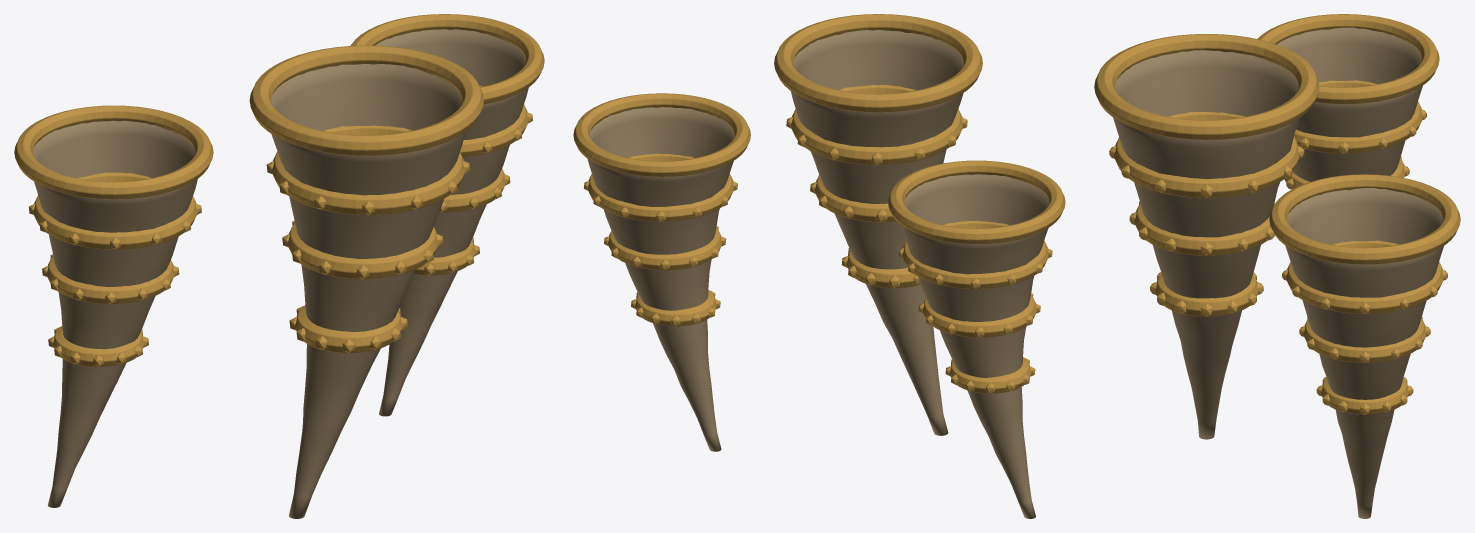
3 renders of one model, left to right at view 1: azimuth 30°, elevation 25°; view 2: azimuth 150°, elevation 25°; view 3: azimuth 270°, elevation 25°, orthographic. The views are drawn at different scales.
Parts seen in each view (by area): view 1: TI040 / curving hollow horn shell.001, TI040 / curving hollow horn shell, TI040 / curving hollow horn shell.002, TI040 / decorative mouth rim.001, TI040 / decorative mouth rim, TI040 / decorative mouth rim.002, TI040 / gold ornamental band.005, TI040 / gold ornamental band.002, TI040 / gold ornamental band.004, TI040 / gold ornamental band.001, TI040 / gold ornamental band.003, TI040 / gold ornamental band (+3 smaller); view 2: TI040 / curving hollow horn shell.001, TI040 / curving hollow horn shell.002, TI040 / curving hollow horn shell, TI040 / decorative mouth rim.001, TI040 / decorative mouth rim.002, TI040 / decorative mouth rim, TI040 / gold ornamental band.005, TI040 / gold ornamental band.002, TI040 / gold ornamental band.008, TI040 / gold ornamental band.001, TI040 / gold ornamental band.007, TI040 / gold ornamental band.004 (+3 smaller); view 3: TI040 / curving hollow horn shell.001, TI040 / curving hollow horn shell.002, TI040 / curving hollow horn shell, TI040 / decorative mouth rim.001, TI040 / decorative mouth rim.002, TI040 / decorative mouth rim, TI040 / gold ornamental band.005, TI040 / gold ornamental band.008, TI040 / gold ornamental band.004, TI040 / gold ornamental band.002, TI040 / gold ornamental band.007, TI040 / gold ornamental band.003 (+1 smaller).
Boxes of the visible parts, box(x1,y1,x2,y2) form: TI040 / curving hollow horn shell.001: box(271, 64, 466, 518); TI040 / curving hollow horn shell: box(32, 120, 197, 507); TI040 / curving hollow horn shell.002: box(375, 29, 528, 416); TI040 / decorative mouth rim.001: box(249, 45, 483, 155); TI040 / decorative mouth rim: box(14, 105, 213, 199); TI040 / decorative mouth rim.002: box(350, 14, 544, 104); TI040 / gold ornamental band.005: box(272, 125, 464, 215); TI040 / gold ornamental band.002: box(33, 172, 197, 249); TI040 / gold ornamental band.004: box(287, 223, 438, 279); TI040 / gold ornamental band.001: box(46, 256, 174, 304); TI040 / gold ornamental band.003: box(294, 305, 402, 353); TI040 / gold ornamental band: box(52, 326, 144, 366); TI040 / curving hollow horn shell.001: box(791, 29, 963, 435); TI040 / curving hollow horn shell.002: box(587, 107, 734, 451); TI040 / curving hollow horn shell: box(902, 174, 1049, 518); TI040 / decorative mouth rim.001: box(774, 14, 982, 112); TI040 / decorative mouth rim.002: box(573, 93, 750, 176); TI040 / decorative mouth rim: box(888, 160, 1065, 244); TI040 / gold ornamental band.005: box(791, 85, 962, 165); TI040 / gold ornamental band.002: box(902, 221, 1048, 288); TI040 / gold ornamental band.008: box(587, 153, 733, 221); TI040 / gold ornamental band.001: box(922, 295, 1036, 337); TI040 / gold ornamental band.007: box(608, 228, 722, 270); TI040 / gold ornamental band.004: box(814, 175, 896, 222); TI040 / curving hollow horn shell.001: box(1113, 50, 1299, 439); TI040 / curving hollow horn shell.002: box(1285, 188, 1443, 518); TI040 / curving hollow horn shell: box(1277, 27, 1422, 181); TI040 / decorative mouth rim.001: box(1094, 34, 1319, 139); TI040 / decorative mouth rim.002: box(1269, 174, 1460, 264); TI040 / decorative mouth rim: box(1257, 14, 1439, 104); TI040 / gold ornamental band.005: box(1114, 112, 1299, 197); TI040 / gold ornamental band.008: box(1286, 240, 1443, 313); TI040 / gold ornamental band.004: box(1134, 203, 1274, 255); TI040 / gold ornamental band.002: box(1294, 80, 1422, 153); TI040 / gold ornamental band.007: box(1303, 318, 1426, 362); TI040 / gold ornamental band.003: box(1155, 273, 1258, 316).
Bounding box in the file's own units: 2.71 × 2.06 × 1.74.
